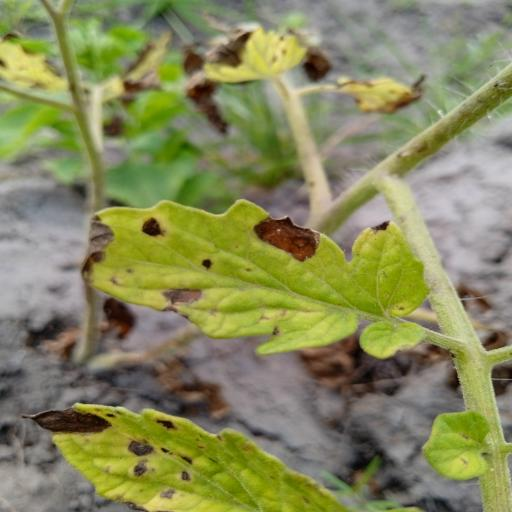Tomato_Brown_Spots: (83, 192, 430, 359), (24, 399, 356, 512)
